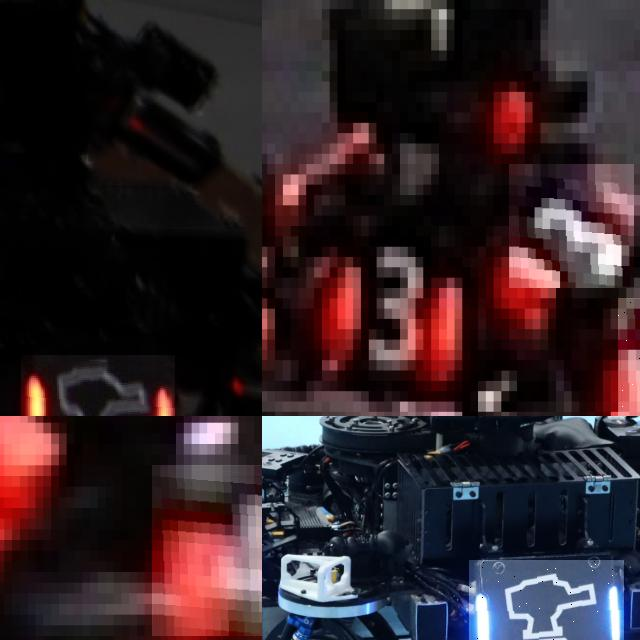Bs: (469, 559, 624, 640)
R3: (298, 236, 478, 391), (509, 164, 634, 288), (618, 298, 640, 416)
R4: (152, 465, 262, 635)
Rs: (21, 355, 175, 416)
